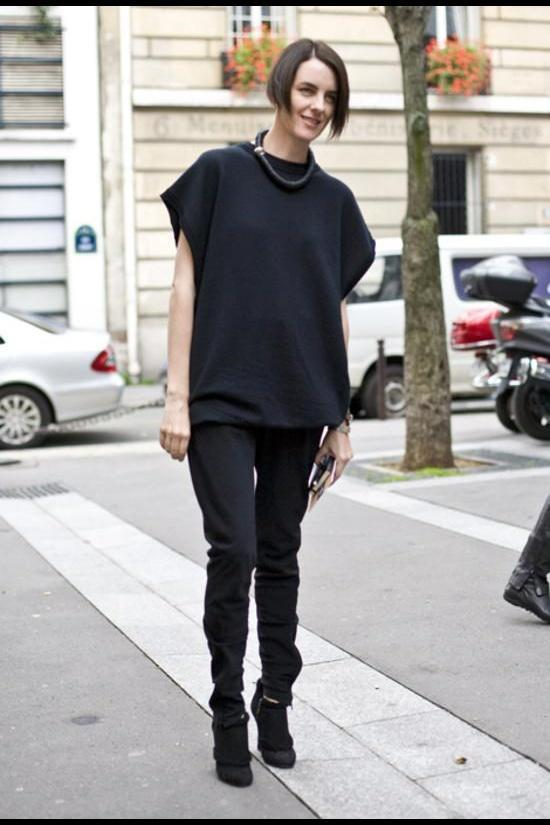pants: (184, 396, 330, 710)
sweater: (159, 136, 377, 430)
